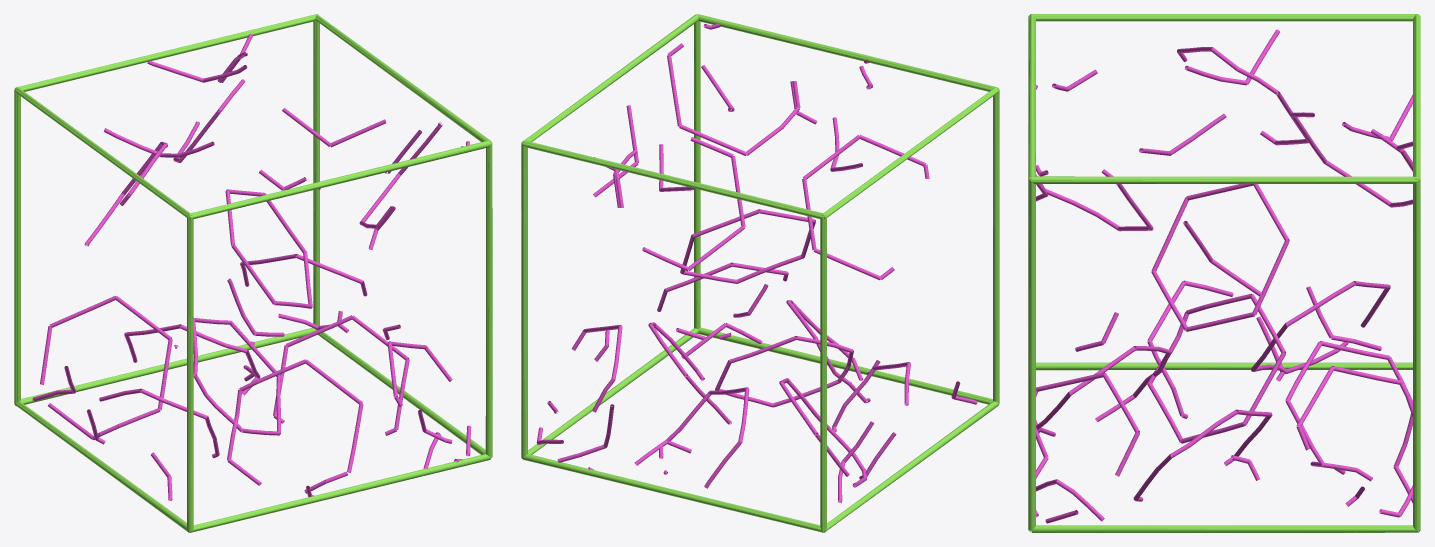
The model's file is dislocation100 (1).glb.
3 views of the same model, side by side, from view 1: azimuth 30°, elevation 25°; view 2: azimuth 150°, elevation 25°; view 3: azimuth 270°, elevation 25° (orthographic). The views are drawn at different scales.
Visible parts, largest first — view 1: Shape_IndexedLineSet, Shape_IndexedLineSet.001; view 2: Shape_IndexedLineSet, Shape_IndexedLineSet.001; view 3: Shape_IndexedLineSet.001, Shape_IndexedLineSet.
Boxes of the visible parts, left/top/right/bottom form: Shape_IndexedLineSet: left=14, top=14, right=492, bottom=532; Shape_IndexedLineSet.001: left=32, top=33, right=471, bottom=500; Shape_IndexedLineSet: left=521, top=14, right=999, bottom=532; Shape_IndexedLineSet.001: left=536, top=23, right=977, bottom=502; Shape_IndexedLineSet.001: left=1035, top=29, right=1413, bottom=523; Shape_IndexedLineSet: left=1028, top=14, right=1420, bottom=532.
Size of the model in its own units: 1.02 by 1.02 by 1.02.
